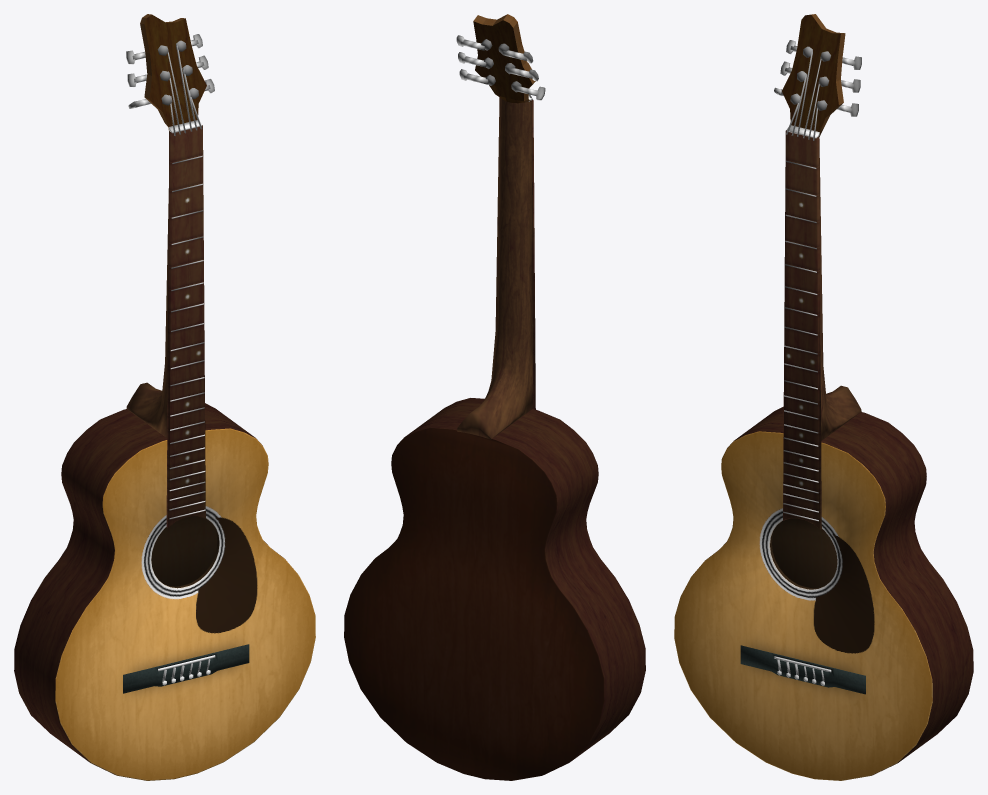
File: GuitarAcousticDropD.fbx
3 views of the same model, side by side, from view 1: azimuth 30°, elevation 25°; view 2: azimuth 150°, elevation 25°; view 3: azimuth 330°, elevation 25° (orthographic).
Visible parts, largest first — view 1: guitar; view 2: guitar; view 3: guitar.
Part boxes in pixels (box(x1,y1,x2,y2)): guitar: box(14, 14, 315, 780); guitar: box(344, 14, 645, 780); guitar: box(674, 14, 973, 780).
Size of the model in its own units: 17.79 by 48.88 by 5.33.
Materials: 1 (1 with a texture image).
